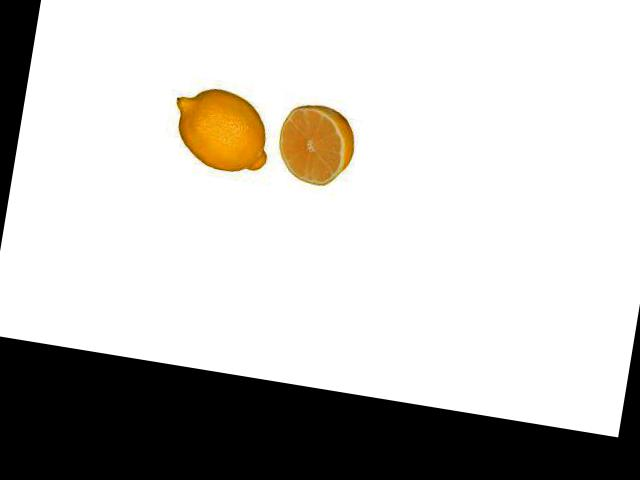lemon: (162, 83, 283, 180)
